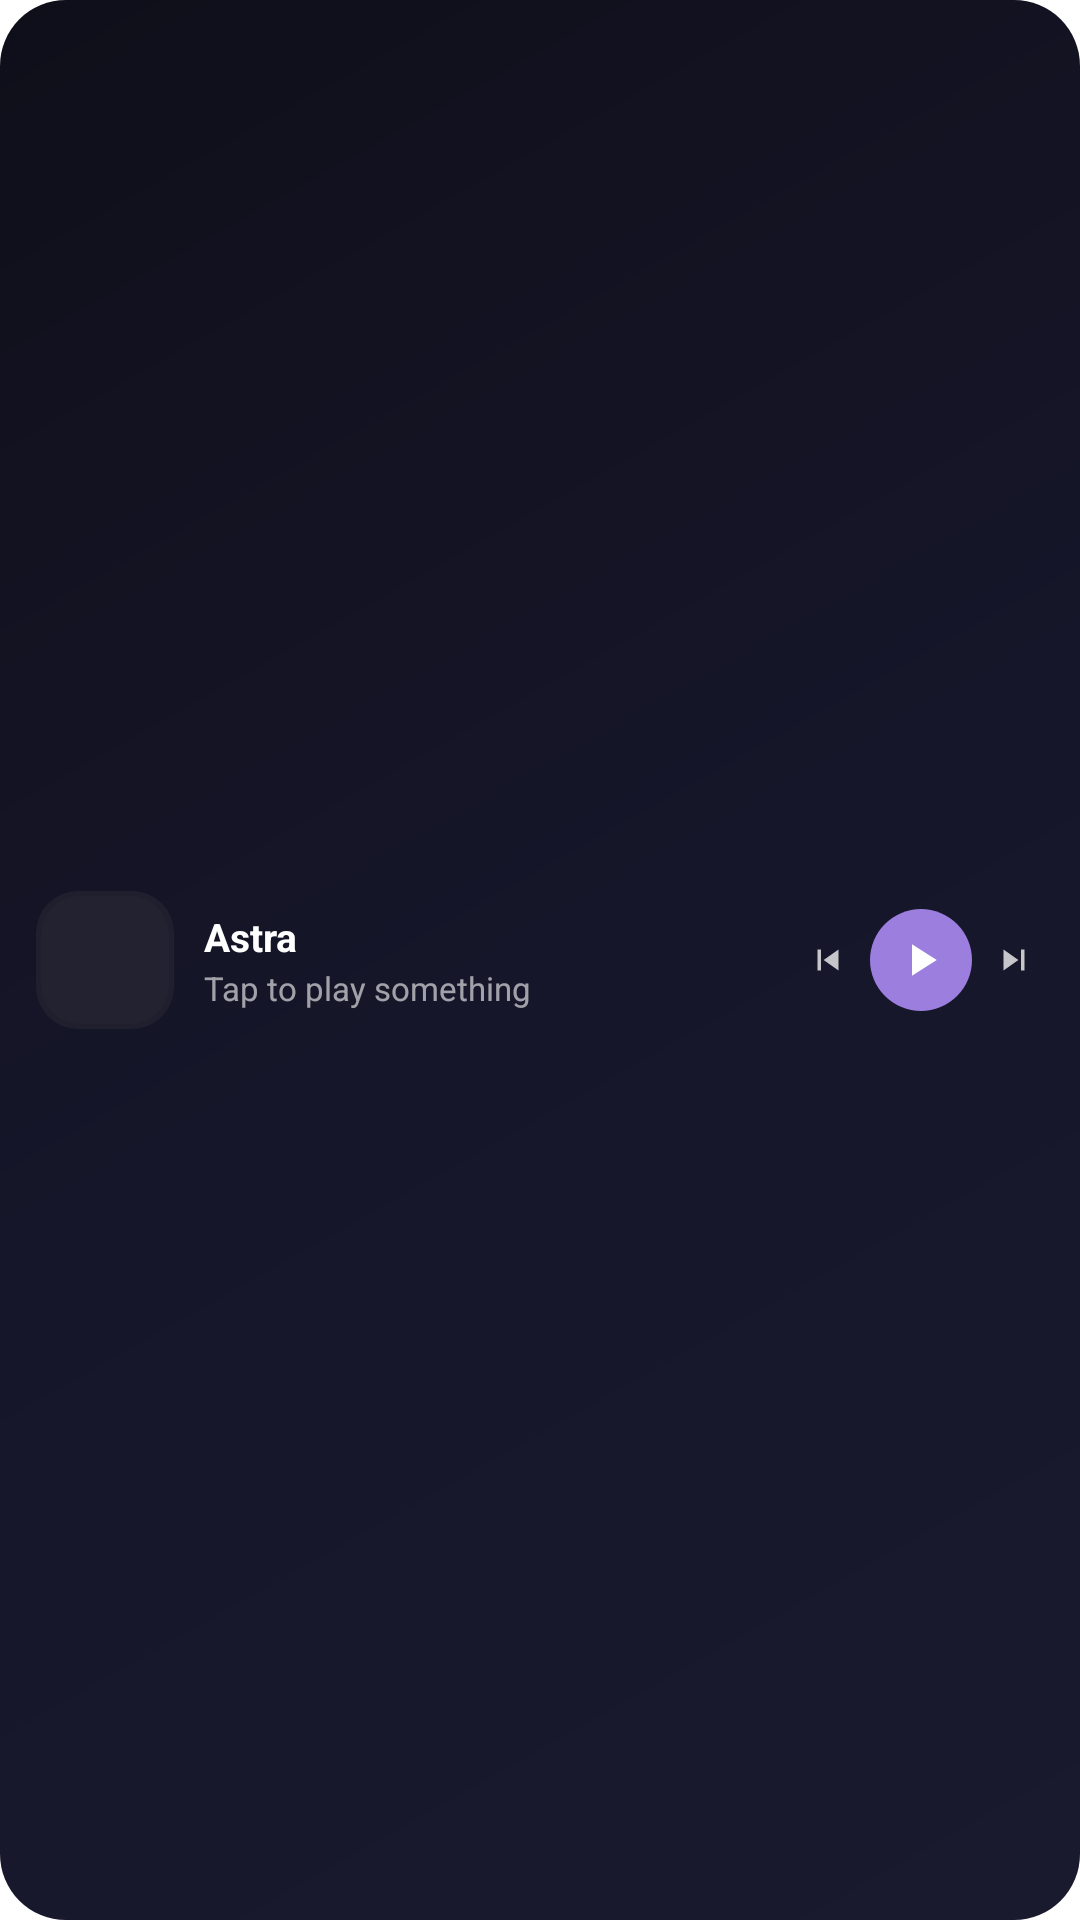

Icons on this 1080w x 1920h Android screen, each with the point to tap as [x,y]:
widget play: [921,960]
